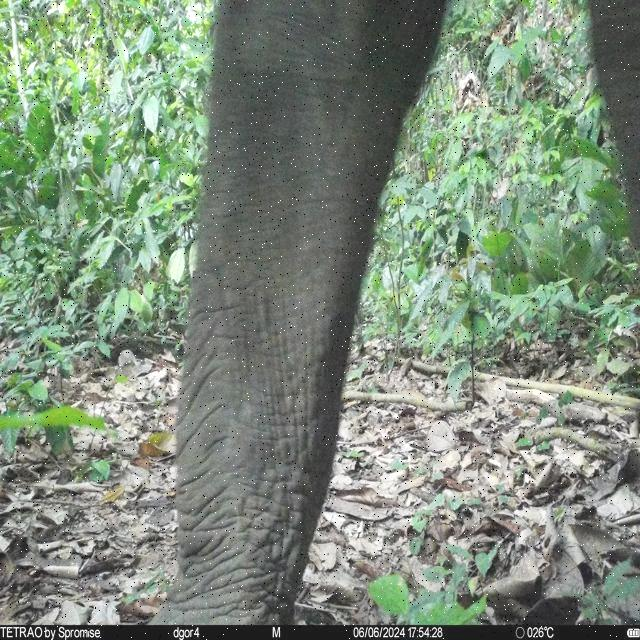elephant: (152, 0, 640, 624)
